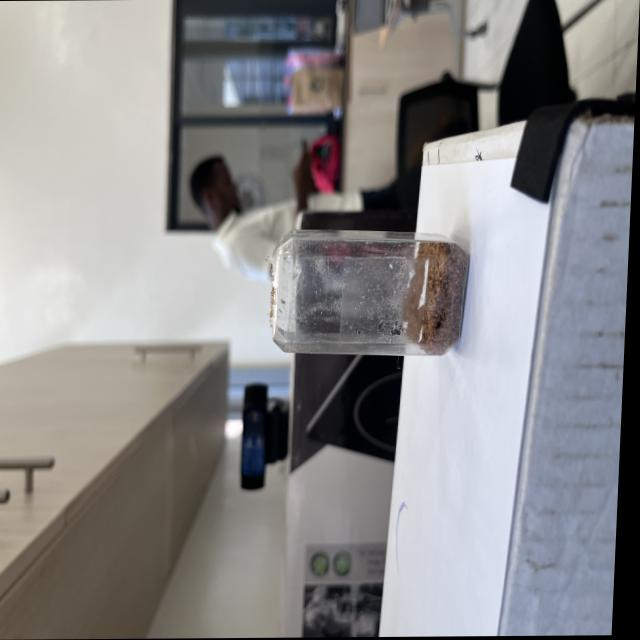maggie_open: (404, 234, 475, 354)
